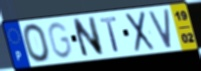G: (47, 21, 74, 61)
N: (71, 15, 106, 60)
O: (21, 22, 52, 64)
T: (99, 15, 121, 54)
V: (147, 8, 174, 51)
X: (124, 10, 157, 54)
